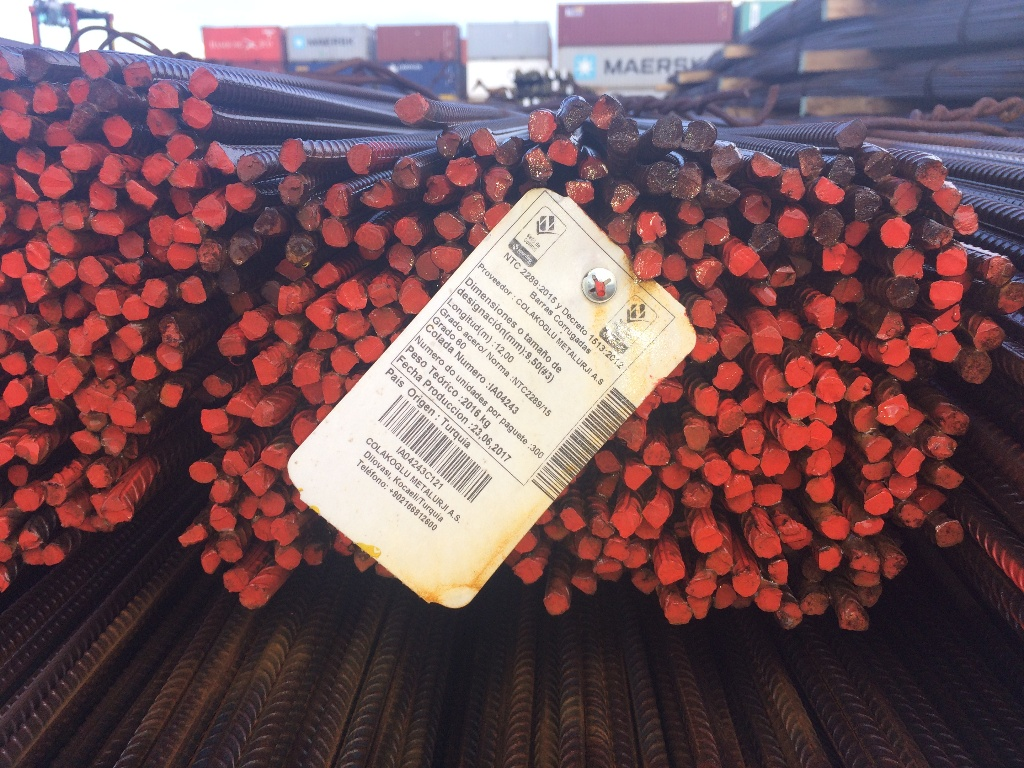dipstick: (590, 93, 626, 131), (959, 349, 992, 386), (141, 153, 176, 187), (193, 196, 228, 230), (682, 119, 717, 153), (40, 165, 74, 200), (54, 357, 84, 396), (561, 97, 593, 133), (812, 211, 845, 245), (703, 182, 742, 210), (1, 109, 33, 143), (608, 118, 639, 153), (168, 159, 204, 189), (485, 168, 515, 204), (712, 143, 741, 180), (877, 393, 910, 425), (892, 247, 924, 280), (205, 140, 236, 174), (395, 93, 429, 124), (445, 157, 479, 188), (652, 116, 683, 150), (777, 207, 808, 241), (890, 182, 922, 214), (937, 406, 970, 437), (229, 232, 258, 267), (11, 167, 40, 202), (359, 180, 395, 208), (646, 162, 678, 193), (48, 226, 80, 257), (78, 256, 110, 287), (983, 257, 1015, 288), (839, 601, 871, 632), (391, 155, 421, 188), (242, 467, 275, 497), (864, 151, 897, 181), (804, 296, 834, 329), (886, 279, 920, 308), (279, 139, 307, 174), (916, 159, 947, 190), (70, 104, 100, 136), (336, 281, 368, 311), (528, 109, 557, 142), (401, 281, 430, 314), (854, 188, 882, 222), (928, 280, 964, 306), (78, 50, 109, 80), (98, 154, 129, 184), (285, 236, 315, 267), (730, 246, 760, 277), (712, 360, 743, 390), (934, 518, 965, 548), (881, 217, 911, 248), (975, 319, 1005, 350), (182, 99, 214, 128), (226, 182, 258, 211), (693, 260, 725, 289), (20, 272, 49, 304), (101, 494, 133, 523), (751, 327, 784, 355), (828, 154, 855, 188), (236, 154, 266, 184), (238, 310, 268, 340), (270, 517, 300, 547), (837, 119, 867, 149), (167, 242, 196, 273), (125, 179, 156, 208), (370, 307, 401, 336), (879, 337, 910, 366), (90, 84, 122, 112), (336, 310, 368, 338), (353, 223, 385, 251), (513, 557, 545, 585), (935, 248, 967, 276), (346, 142, 373, 175), (433, 212, 466, 239), (953, 203, 980, 236), (830, 277, 865, 302), (103, 115, 132, 145), (166, 134, 196, 163), (331, 346, 361, 375), (638, 213, 667, 243), (633, 250, 662, 280), (718, 406, 747, 436), (780, 424, 810, 453), (908, 322, 938, 351), (749, 225, 779, 254), (782, 520, 811, 550), (190, 68, 218, 99), (394, 216, 422, 247), (814, 177, 845, 205), (810, 331, 841, 359), (786, 357, 814, 388), (617, 420, 645, 451), (147, 82, 179, 109), (251, 355, 278, 387), (459, 192, 486, 224), (921, 221, 953, 248), (779, 168, 805, 201), (897, 448, 926, 477), (368, 278, 398, 306), (423, 175, 451, 205), (525, 149, 553, 179), (548, 139, 578, 167), (722, 331, 750, 361), (610, 510, 640, 538), (107, 400, 137, 428), (788, 391, 816, 421), (805, 421, 833, 451), (146, 108, 177, 135), (148, 215, 175, 246), (291, 362, 322, 389), (2, 378, 29, 409), (815, 377, 846, 404), (159, 316, 185, 348), (324, 184, 349, 217), (932, 466, 965, 491), (199, 239, 223, 273), (114, 326, 143, 354), (355, 335, 384, 363), (277, 177, 306, 205), (469, 127, 497, 156), (612, 184, 640, 213), (742, 195, 771, 223), (209, 504, 237, 533), (661, 462, 689, 491), (23, 51, 50, 81), (156, 342, 183, 372), (252, 402, 282, 429), (47, 261, 77, 288), (751, 532, 781, 559), (927, 434, 957, 461), (16, 146, 46, 173), (704, 216, 730, 247), (690, 299, 716, 330), (60, 145, 91, 171), (799, 591, 830, 617), (934, 183, 960, 214), (680, 228, 705, 260), (819, 515, 851, 540), (862, 490, 895, 514), (117, 231, 145, 259), (625, 464, 653, 492), (321, 218, 348, 247), (25, 242, 52, 271), (761, 449, 790, 476), (805, 477, 834, 504), (875, 311, 904, 338), (122, 62, 152, 88), (142, 278, 168, 308), (273, 319, 303, 345), (751, 152, 781, 178), (798, 147, 824, 177), (680, 163, 701, 200), (33, 82, 58, 113), (71, 431, 102, 456), (682, 485, 713, 510), (225, 395, 256, 420), (180, 276, 207, 304), (388, 246, 415, 274), (703, 459, 731, 486), (694, 527, 722, 554), (15, 439, 43, 466), (733, 571, 761, 598), (173, 218, 202, 244), (306, 304, 335, 330), (55, 501, 84, 527), (607, 216, 633, 245), (754, 482, 784, 507), (694, 386, 718, 417), (850, 550, 881, 574), (122, 294, 149, 321), (435, 131, 462, 158), (85, 463, 112, 490), (253, 207, 279, 235), (200, 408, 228, 434), (494, 137, 520, 165), (216, 536, 242, 564), (804, 449, 832, 475), (691, 335, 719, 361), (45, 122, 74, 147), (277, 286, 302, 315), (29, 330, 58, 355), (180, 524, 209, 549), (37, 201, 62, 230), (217, 333, 247, 357), (202, 374, 232, 398), (297, 203, 321, 233), (579, 156, 609, 180), (657, 561, 687, 585), (432, 247, 462, 271), (643, 502, 669, 529), (560, 507, 587, 533), (222, 568, 249, 594), (275, 546, 302, 572), (222, 450, 248, 477), (865, 436, 892, 462), (683, 424, 708, 452), (595, 450, 623, 475), (755, 587, 783, 612), (847, 376, 872, 404), (95, 212, 124, 236), (564, 180, 593, 204), (1, 249, 25, 278), (853, 517, 886, 538), (104, 427, 127, 457), (111, 262, 142, 284), (131, 355, 157, 381), (90, 185, 117, 210), (13, 204, 38, 231), (312, 264, 340, 288), (633, 571, 658, 597), (751, 283, 776, 309), (778, 314, 803, 340), (596, 559, 623, 583), (593, 514, 617, 541), (664, 254, 687, 282), (189, 460, 217, 483), (14, 487, 42, 510), (241, 585, 269, 608), (823, 242, 845, 271), (40, 295, 62, 324), (687, 576, 717, 597), (99, 289, 123, 315), (643, 442, 669, 466), (83, 317, 109, 341), (210, 481, 236, 505), (817, 545, 841, 571), (604, 538, 631, 561), (544, 591, 569, 615), (160, 383, 184, 408), (41, 483, 66, 507), (227, 290, 253, 313), (838, 338, 861, 364), (846, 221, 869, 247), (884, 554, 907, 580), (579, 537, 602, 563), (571, 575, 598, 597), (322, 374, 342, 403), (624, 545, 649, 568), (64, 293, 87, 318), (854, 407, 877, 432), (742, 429, 764, 455), (30, 404, 56, 426), (679, 200, 703, 223), (260, 493, 284, 516), (666, 604, 691, 626), (308, 332, 338, 350), (42, 544, 66, 566), (771, 266, 795, 288), (67, 80, 89, 103), (262, 447, 287, 467), (6, 465, 26, 488), (239, 496, 259, 518), (304, 544, 324, 565), (19, 530, 42, 548), (846, 248, 860, 274)
